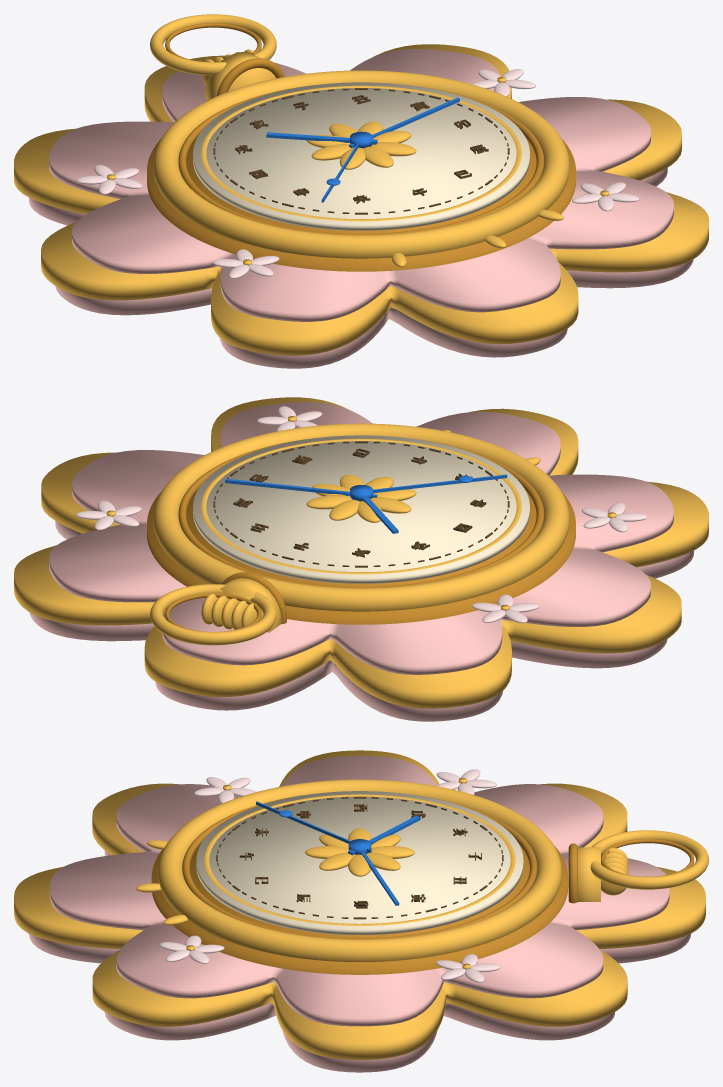
The model's file is sakura_pocket_watch.fbx.
3 views of the same model, one above another, from view 1: azimuth 30°, elevation 25°; view 2: azimuth 150°, elevation 25°; view 3: azimuth 270°, elevation 25° (orthographic). The views are drawn at different scales.
Visible parts, largest first — view 1: inner pink enamel surface, ivory circular dial, raised scalloped gold rim, outer rounded gold bezel, eight petal pink enamel back, round pocket watch case, bezel shadow groove, large hanging loop, inner raised gold ring, top crown collar, small crown base ring, inner loop highlight; view 2: inner pink enamel surface, ivory circular dial, raised scalloped gold rim, outer rounded gold bezel, eight petal pink enamel back, round pocket watch case, large hanging loop, bezel shadow groove, inner raised gold ring, top crown collar, inner loop highlight, long blue minute hand (+2 smaller); view 3: inner pink enamel surface, ivory circular dial, raised scalloped gold rim, outer rounded gold bezel, eight petal pink enamel back, round pocket watch case, large hanging loop, bezel shadow groove, inner raised gold ring, top crown collar, inner loop highlight, small crown base ring.
Boxes of the visible parts, <box> form: inner pink enamel surface: <box>49,49,673,321</box>; ivory circular dial: <box>193,82,529,230</box>; raised scalloped gold rim: <box>14,44,708,355</box>; outer rounded gold bezel: <box>153,70,569,258</box>; eight petal pink enamel back: <box>29,168,693,368</box>; round pocket watch case: <box>147,138,575,271</box>; bezel shadow groove: <box>178,85,544,235</box>; large hanging loop: <box>150,14,276,75</box>; inner raised gold ring: <box>201,85,521,221</box>; top crown collar: <box>205,52,276,99</box>; small crown base ring: <box>216,58,284,95</box>; inner loop highlight: <box>165,23,261,62</box>; inner pink enamel surface: <box>49,402,673,674</box>; ivory circular dial: <box>193,435,529,583</box>; raised scalloped gold rim: <box>14,397,708,708</box>; outer rounded gold bezel: <box>153,423,569,611</box>; eight petal pink enamel back: <box>29,521,693,721</box>; round pocket watch case: <box>147,491,575,624</box>; large hanging loop: <box>150,584,276,645</box>; bezel shadow groove: <box>178,438,544,588</box>; inner raised gold ring: <box>201,438,521,574</box>; top crown collar: <box>220,578,281,632</box>; inner loop highlight: <box>165,593,261,631</box>; long blue minute hand: <box>225,478,377,497</box>; inner pink enamel surface: <box>50,756,669,1026</box>; ivory circular dial: <box>196,791,523,934</box>; raised scalloped gold rim: <box>14,750,705,1059</box>; outer rounded gold bezel: <box>157,779,562,961</box>; eight petal pink enamel back: <box>29,850,690,1072</box>; round pocket watch case: <box>151,845,568,974</box>; large hanging loop: <box>590,830,708,889</box>; bezel shadow groove: <box>182,794,537,939</box>; inner raised gold ring: <box>204,794,515,925</box>; top crown collar: <box>577,847,600,901</box>; inner loop highlight: <box>601,839,694,876</box>; small crown base ring: <box>568,843,577,903</box>.
Bounding box in the file's own units: 40.2 × 5.73 × 40.37.
